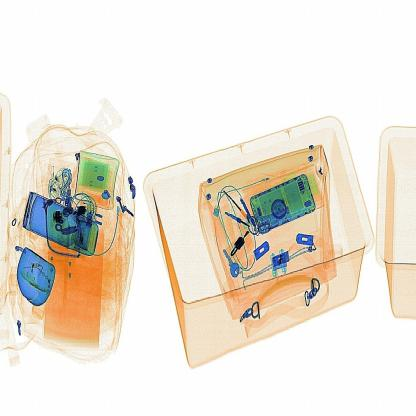scissors: (49, 204, 75, 233)
